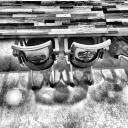chair_success: (12, 38, 60, 90), (64, 37, 112, 87)
